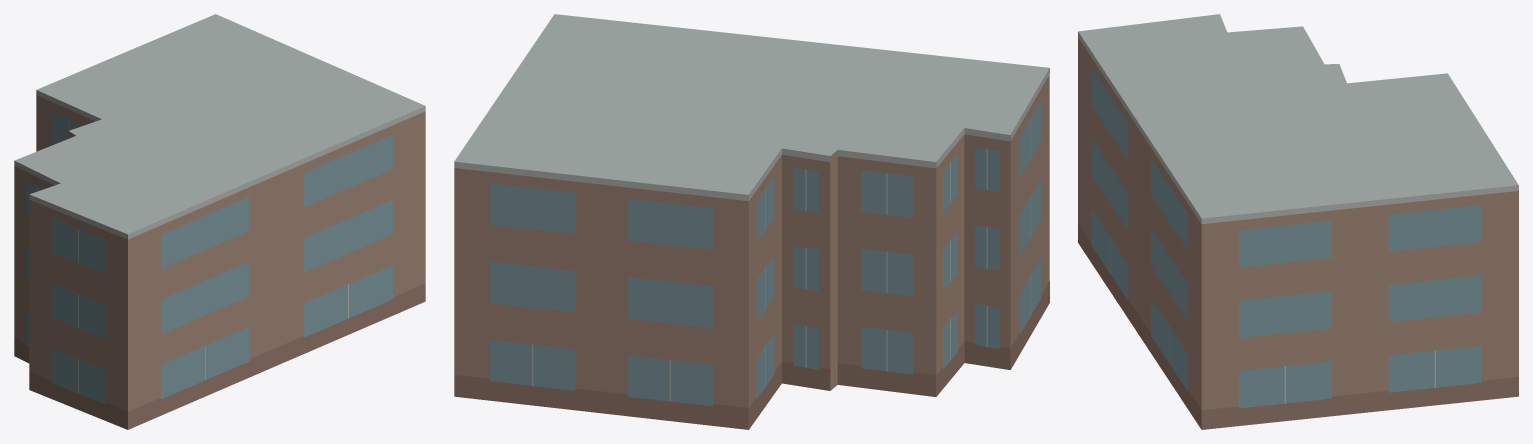
Rendered from survey-upis-32939136.glb.
3 views of the same model, side by side, from view 1: azimuth 30°, elevation 25°; view 2: azimuth 150°, elevation 25°; view 3: azimuth 270°, elevation 25° (orthographic). The views are drawn at different scales.
Parts seen in each view (by area): view 1: survey-upis-32939136.tmp; view 2: survey-upis-32939136.tmp; view 3: survey-upis-32939136.tmp.
Part boxes in pixels (x1,y1,x2,y2): survey-upis-32939136.tmp: (14,14,425,429); survey-upis-32939136.tmp: (454,14,1049,429); survey-upis-32939136.tmp: (1078,14,1518,429).
Size of the model in its own units: 19.01 by 9.15 by 17.31.
